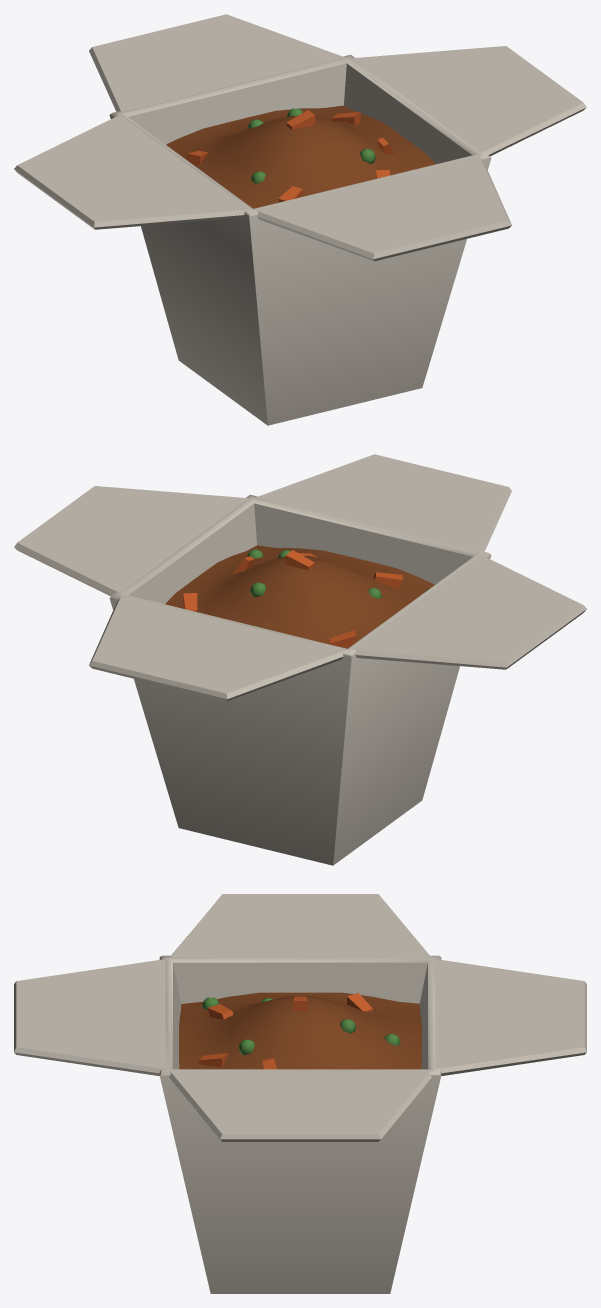
Rendered from ChineseFood_01.fbx.
3 renders of one model, top to bottom at view 1: azimuth 30°, elevation 25°; view 2: azimuth 150°, elevation 25°; view 3: azimuth 270°, elevation 25°, orthographic.
Visible parts, largest first — view 1: ChineseFood_01; view 2: ChineseFood_01; view 3: ChineseFood_01.
Part boxes in pixels (x1,y1,x2,y2): ChineseFood_01: [14, 14, 586, 425]; ChineseFood_01: [14, 454, 586, 865]; ChineseFood_01: [14, 894, 586, 1293].
Size of the model in its own units: 0.3021 by 0.1517 by 0.3021.
